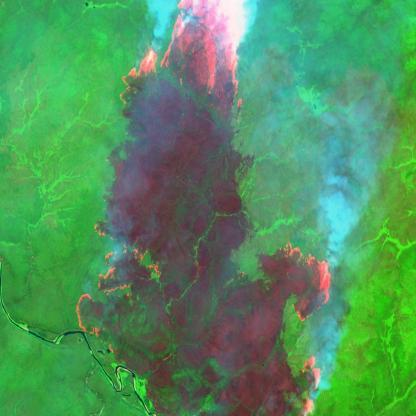fire: (112, 0, 258, 120), (271, 240, 337, 416), (74, 220, 164, 348)
